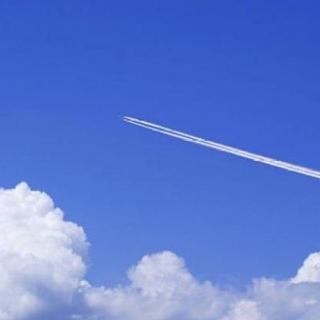Contrails: (0, 178, 320, 320)
